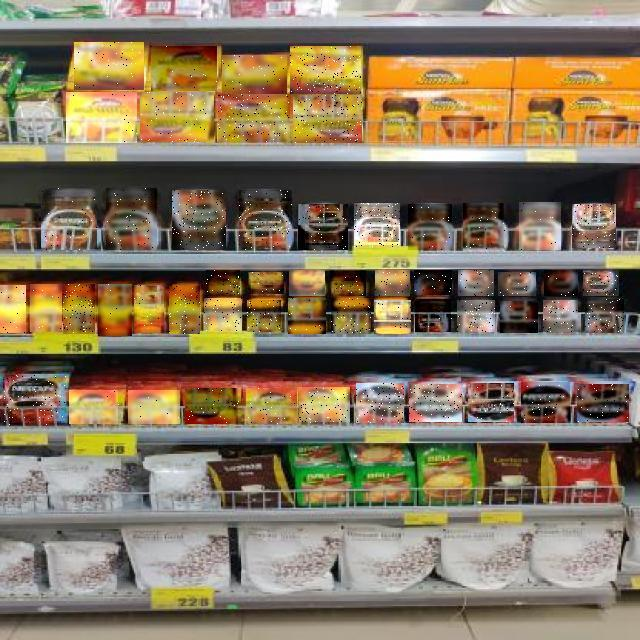Coffee: (140, 93, 214, 143), (66, 92, 137, 143), (41, 188, 97, 250), (218, 95, 290, 143), (290, 46, 361, 94), (74, 42, 144, 90), (293, 95, 362, 143), (172, 190, 226, 250), (239, 190, 292, 250), (106, 188, 157, 250), (3, 375, 66, 425), (151, 46, 217, 91), (222, 55, 287, 94), (298, 204, 348, 250), (354, 204, 400, 248), (408, 204, 452, 250), (519, 202, 561, 250), (464, 204, 506, 252), (409, 384, 462, 422), (521, 382, 570, 423), (577, 384, 629, 422), (186, 388, 240, 424), (572, 204, 616, 248), (356, 383, 404, 423), (299, 388, 350, 424), (246, 388, 297, 424), (468, 383, 514, 422), (99, 284, 133, 336), (128, 390, 180, 424), (70, 390, 120, 424), (63, 284, 95, 334), (30, 285, 62, 333), (169, 286, 200, 334), (134, 285, 164, 333), (331, 298, 371, 334), (288, 298, 326, 334), (585, 299, 624, 333), (374, 300, 411, 334), (204, 298, 242, 331), (416, 299, 454, 332), (0, 285, 26, 333), (457, 300, 495, 332), (500, 301, 538, 333), (544, 300, 580, 332), (247, 300, 281, 332), (584, 270, 622, 296), (414, 270, 452, 295), (331, 270, 367, 296), (458, 270, 494, 296), (289, 270, 325, 296), (498, 272, 536, 296), (375, 270, 410, 296), (544, 270, 578, 296), (206, 270, 240, 296), (248, 272, 284, 294)
